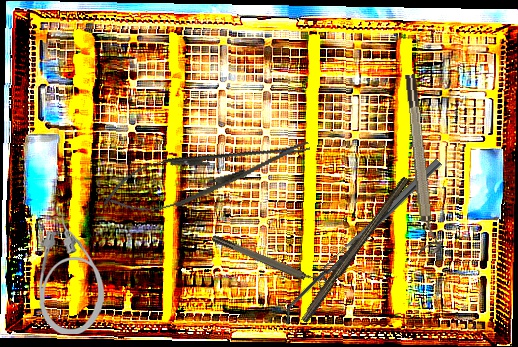Cannula: (37, 212, 106, 335)
Fixation Ring: (210, 228, 330, 293), (402, 73, 442, 255)
Needle Holder: (97, 122, 316, 226)
Scalpel Handle: (297, 172, 411, 326)
Spatula Surgical: (277, 158, 448, 325)
